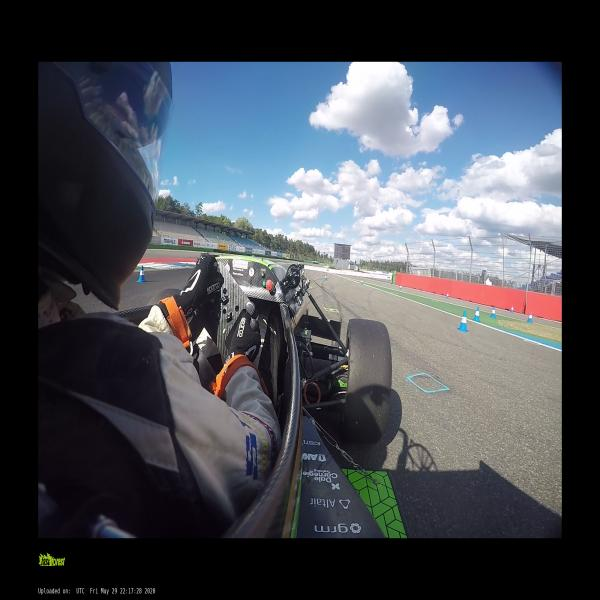blue_cone: (458, 311, 468, 332), (137, 266, 147, 283), (473, 307, 480, 322), (490, 306, 496, 318), (527, 312, 533, 323), (510, 306, 514, 313), (324, 274, 327, 280), (399, 284, 402, 290), (446, 293, 449, 298), (361, 280, 363, 285)
